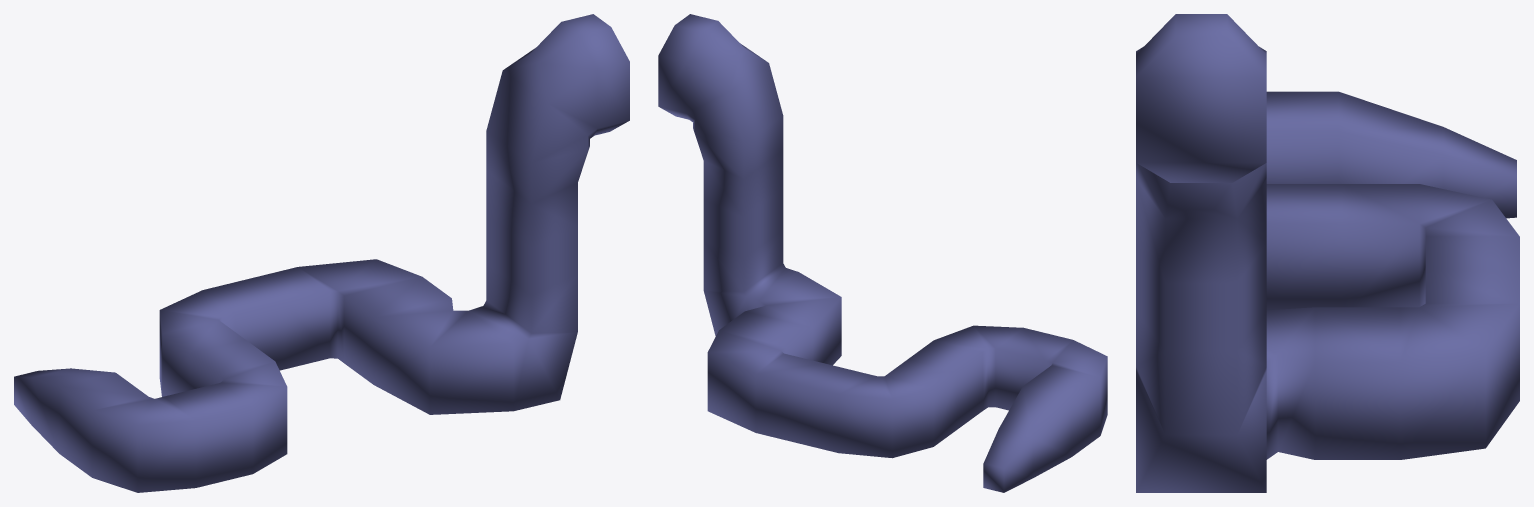
File: fish-01.dae
The picture shows the model from 3 angles, left to right: view 1: azimuth 30°, elevation 25°; view 2: azimuth 150°, elevation 25°; view 3: azimuth 270°, elevation 25°; orthographic projection. The views are drawn at different scales.
Visible parts, largest first — view 1: Cube; view 2: Cube; view 3: Cube.
Part boxes in pixels (left/top/right/bottom): Cube: left=14, top=14, right=629, bottom=492; Cube: left=658, top=14, right=1107, bottom=492; Cube: left=1136, top=14, right=1519, bottom=492.
Size of the model in its own units: 17.74 by 8.15 by 11.77.
